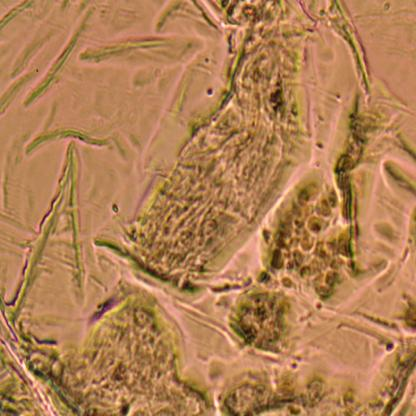Normal: (0, 283, 416, 416), (179, 15, 313, 348)
